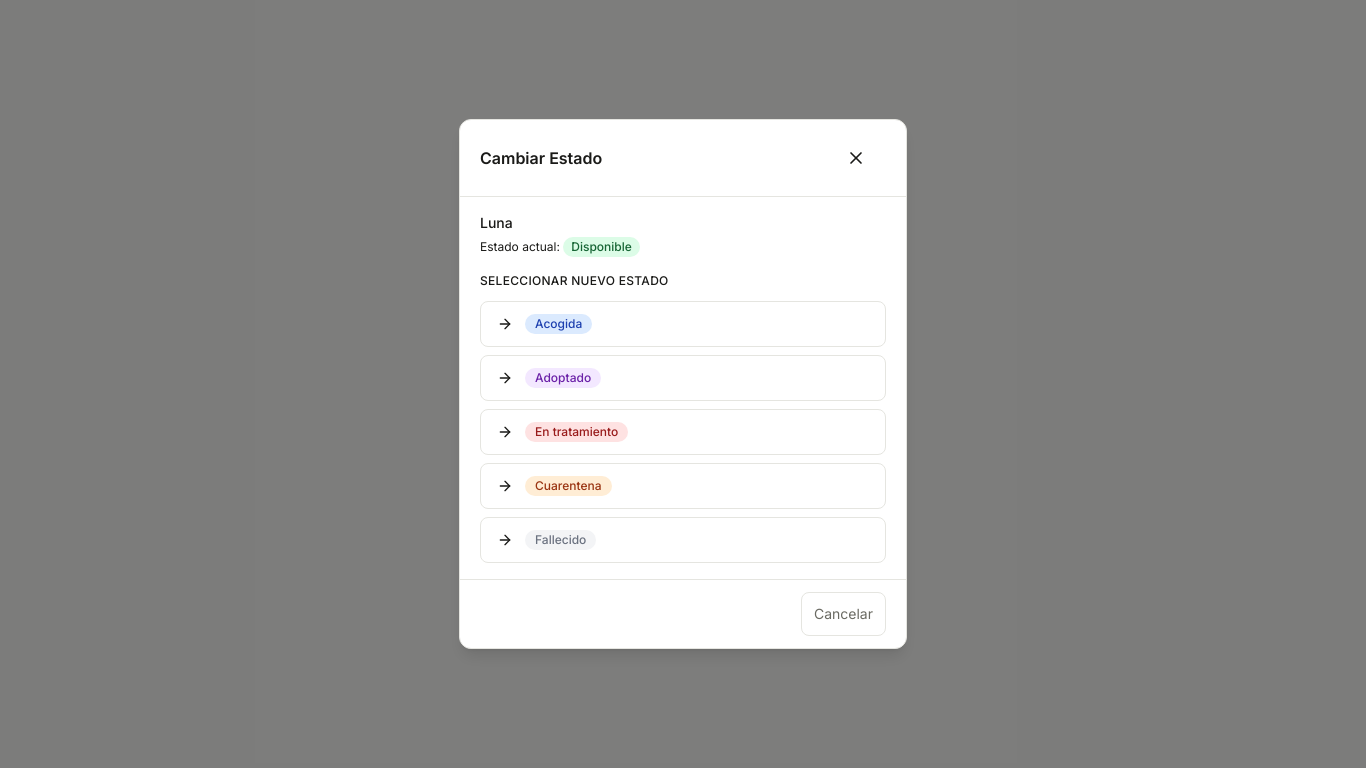
StatusWorkflowModal › shows confirmation step after selecting a status
The image size is (1366, 768).
Click the button "Adoptado" at (563, 378), box 480,355 -> 886,401
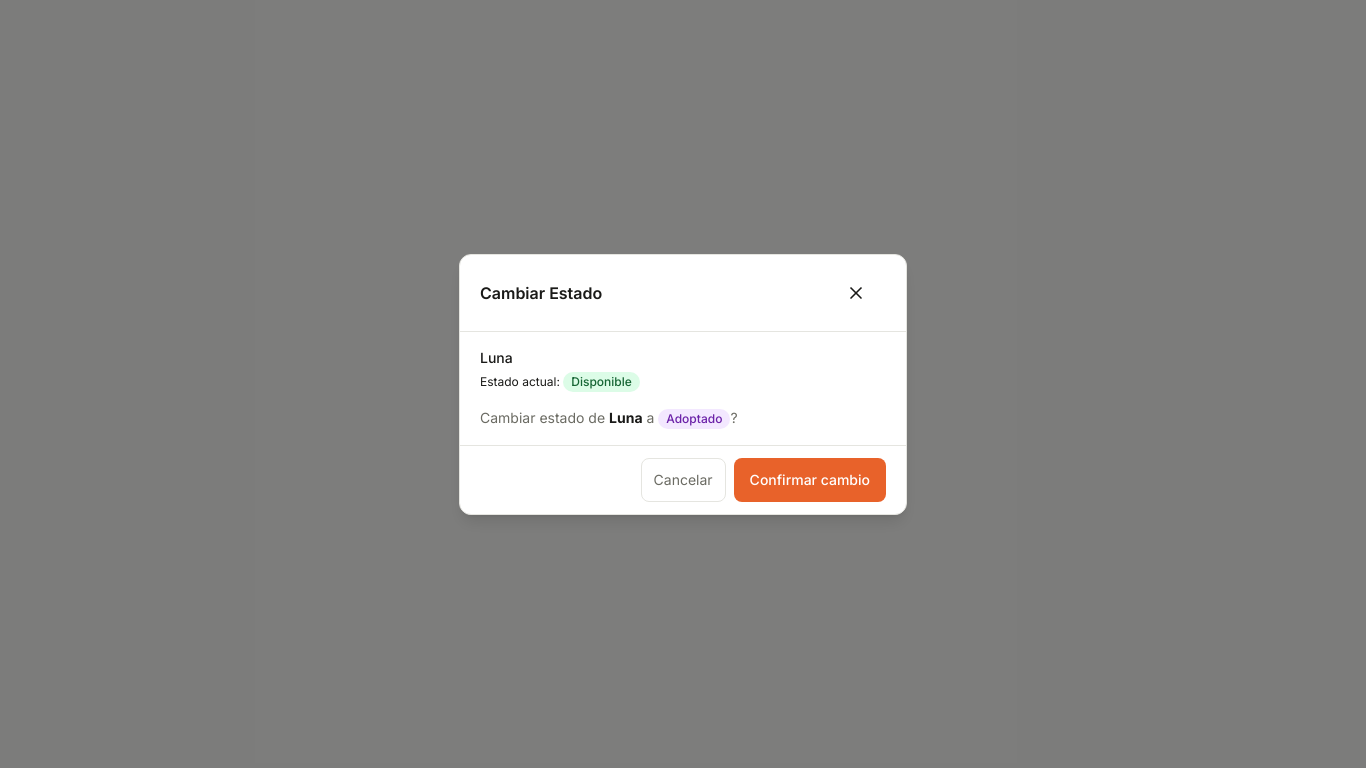
Expected: the text "Cambiar estado de Luna a Adoptado ?" is shown, 480,408 -> 738,428
Expected: the button "Confirmar cambio" is shown, 734,458 -> 886,502
